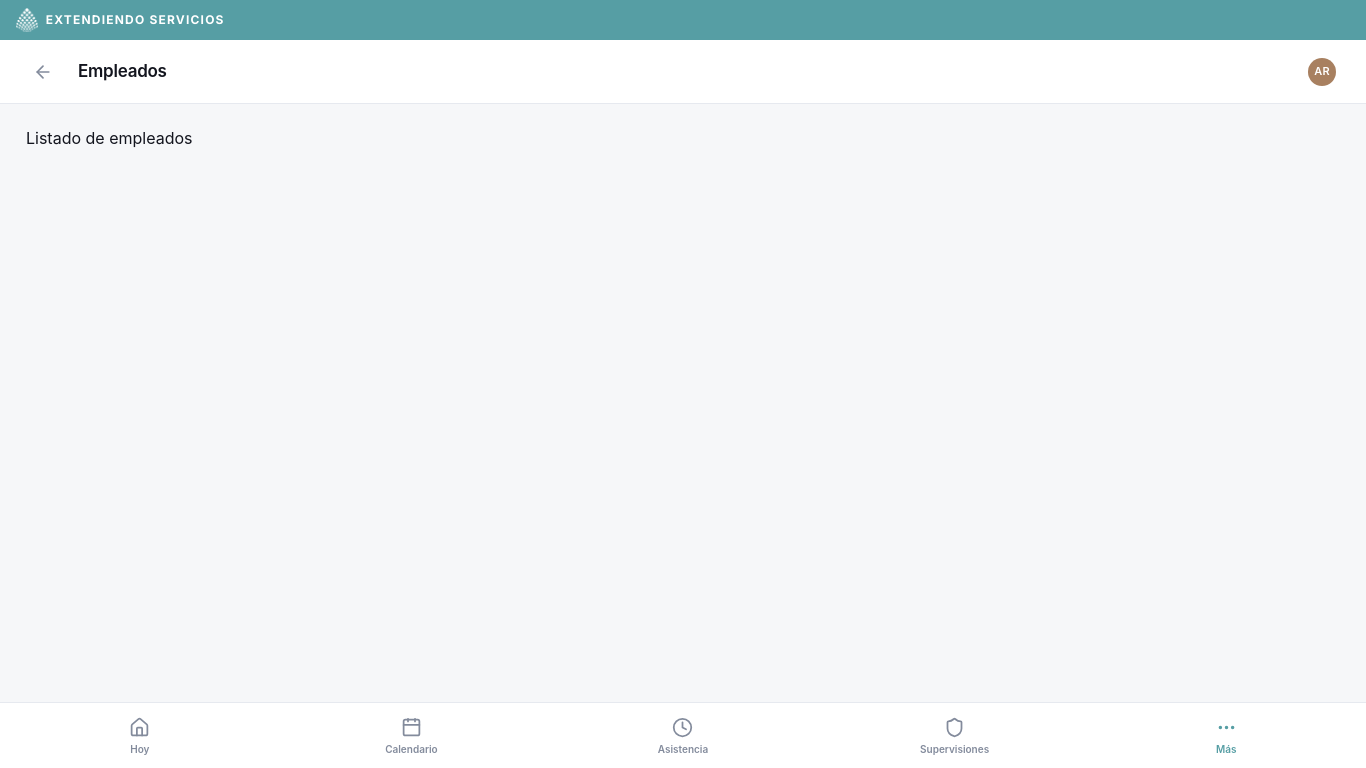
Test case: AdminShell — flecha atrás (P17.8) › sin historial, una sección de Más vuelve al inicio
This screenshot has width=1366, height=768.
Click the button named "Volver". click: coordinates (43, 72)
box: [26, 54, 60, 88]
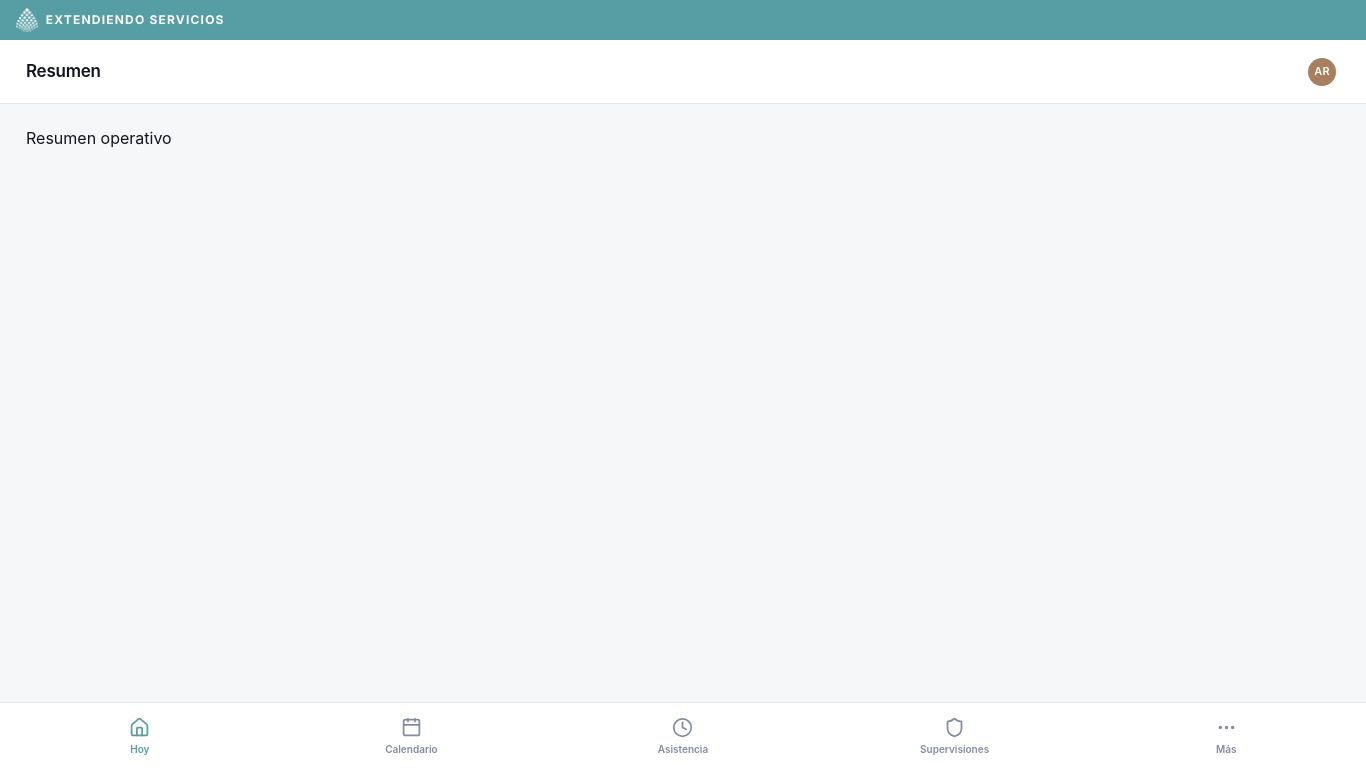
Result: the text "Resumen operativo" is shown at [26, 128, 172, 148]
